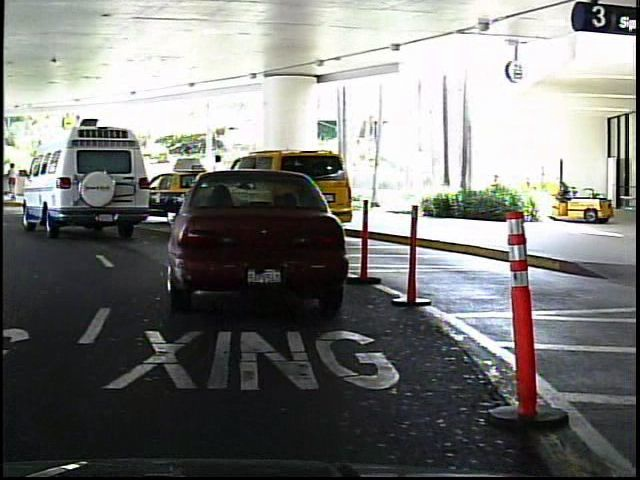person: (207, 150, 233, 213), (41, 157, 59, 200), (5, 159, 21, 200)
